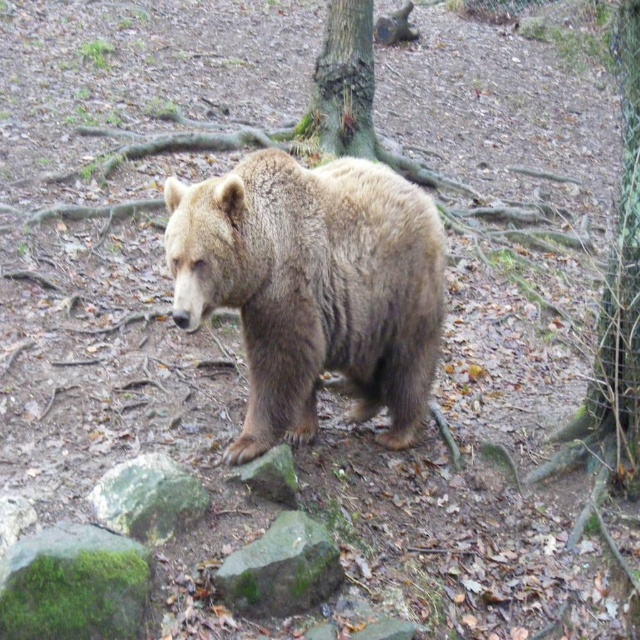Brown bear: (162, 146, 442, 469)
